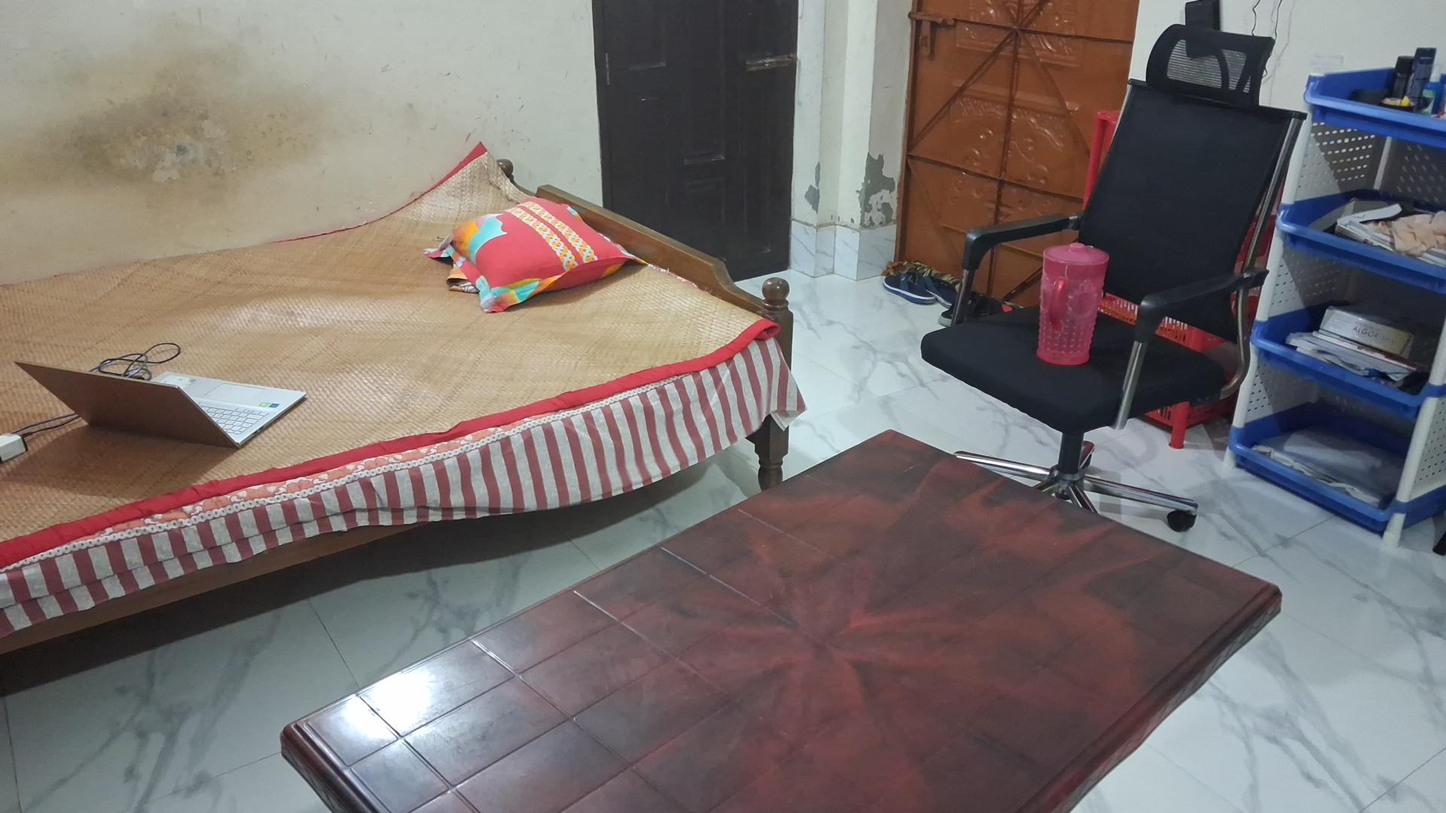Chair: (922, 66, 1308, 532)
Door: (589, 5, 800, 282)
Footwear: (881, 266, 960, 306)
Laptop: (15, 361, 307, 449)
Pillow: (430, 198, 635, 305), (1030, 239, 1112, 370)
Rack: (1232, 44, 1446, 546)
Table: (238, 428, 1281, 813)
